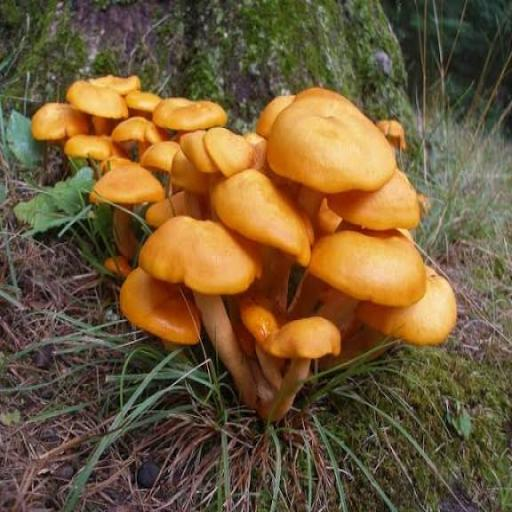Jack O Lantern Mushroom: (141, 213, 279, 420), (265, 87, 392, 236), (300, 214, 423, 334), (216, 171, 313, 309), (348, 273, 450, 356), (264, 320, 341, 428), (120, 258, 205, 353), (88, 162, 162, 261), (338, 154, 423, 234), (62, 74, 130, 148), (173, 123, 255, 183), (141, 89, 225, 139), (47, 128, 127, 176), (29, 99, 97, 150), (125, 85, 169, 116)
